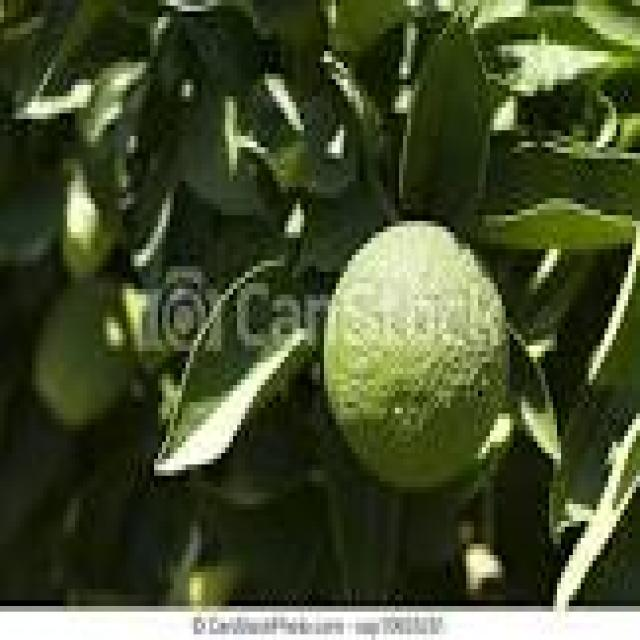orange: (324, 221, 506, 481), (36, 278, 130, 425)
